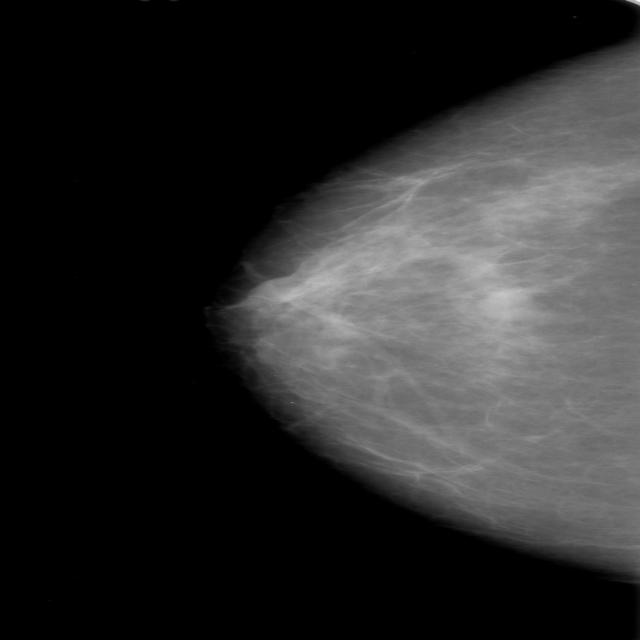normal: (209, 41, 640, 574)
